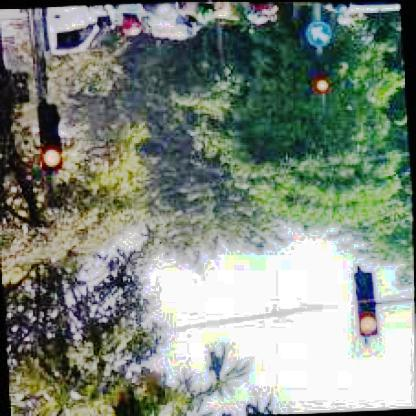Traffic Light -Red-: (354, 270, 378, 338), (40, 104, 64, 171)
